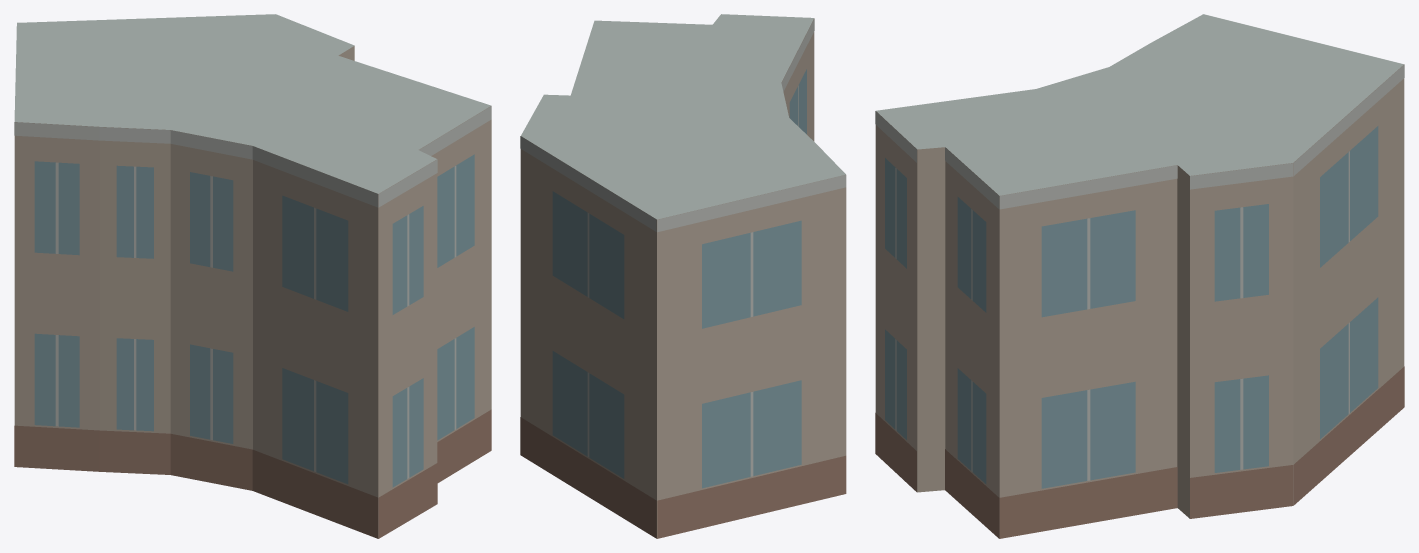
Rendered from survey-upis-32458322.glb.
The picture shows the model from 3 angles, left to right: view 1: azimuth 30°, elevation 25°; view 2: azimuth 150°, elevation 25°; view 3: azimuth 270°, elevation 25°; orthographic projection. The views are drawn at different scales.
Visible parts, largest first — view 1: survey-upis-32458322.tmp; view 2: survey-upis-32458322.tmp; view 3: survey-upis-32458322.tmp.
Part boxes in pixels (x1=…): survey-upis-32458322.tmp: x1=14, y1=14, x2=491, y2=538; survey-upis-32458322.tmp: x1=520, y1=14, x2=846, y2=538; survey-upis-32458322.tmp: x1=875, y1=14, x2=1404, y2=538.
Bounding box in the file's own units: 6.94 × 6.1 × 8.53.
